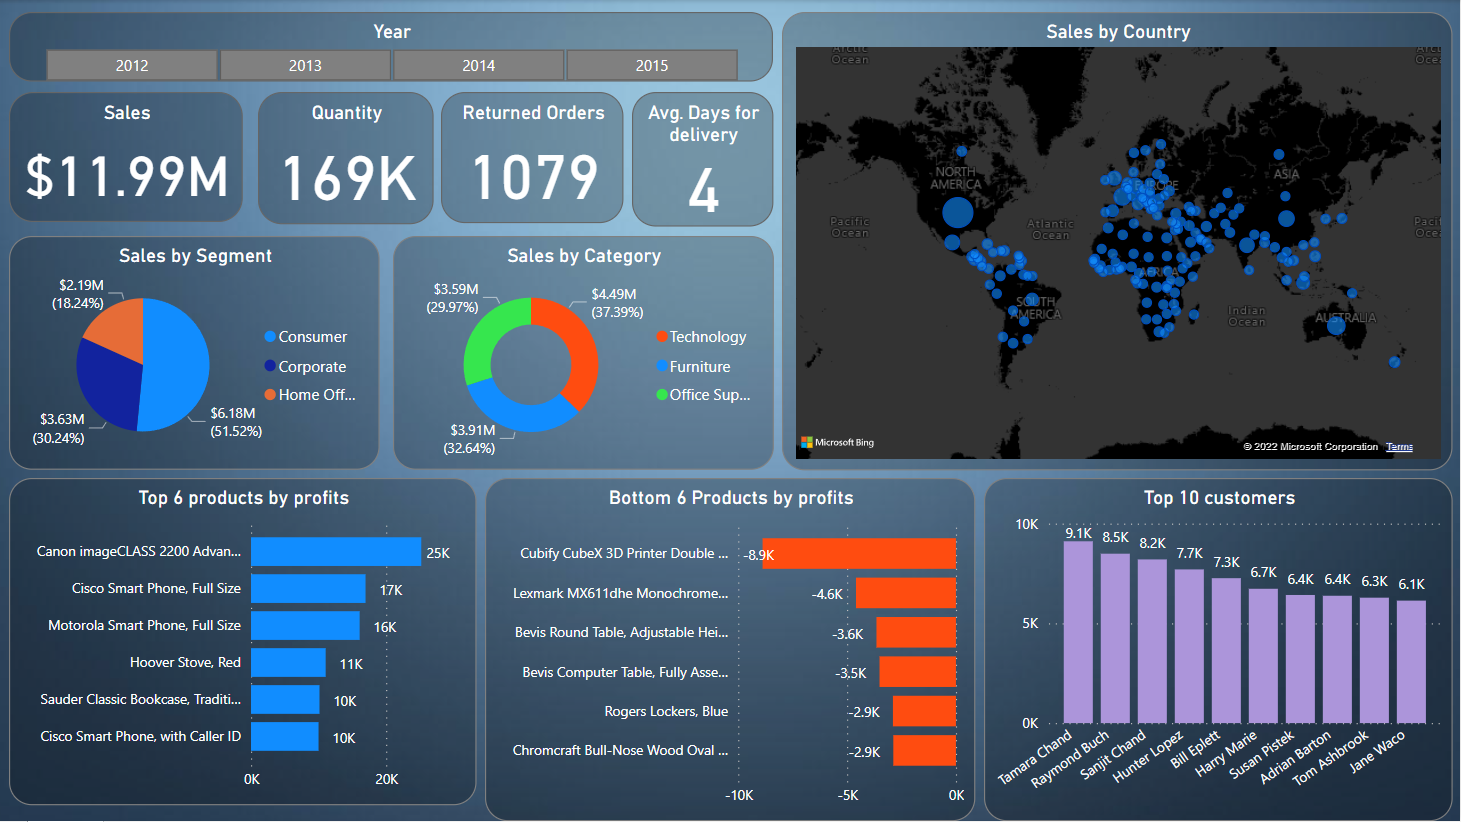

Layout of this report page (visuals, bound fields, positions):
{"tool":"powerbi","page":{"name":"Page 1","canvas":[1280,720],"ordinal":0},"visuals":[{"type":"card","title":"Sales","fields":{"Values":["Orders.Sales"]},"box":[7.9,80.7,205.2,114],"z":0},{"type":"card","title":"Quantity","fields":{"Values":["Orders.Quantity"]},"box":[226.3,80.7,154.3,115.8],"z":1000},{"type":"card","title":"Avg. Days for delivery","fields":{"Values":["Orders.delivery days"]},"box":[554.3,80.7,123.7,117.5],"z":2000},{"type":"slicer","title":"Year","fields":{"Values":["Orders.year"]},"box":[7.9,10.5,670,60.5],"z":3000},{"type":"card","title":"Returned Orders","fields":{"Values":["Returns.return orders"]},"box":[386.7,80.7,160.5,114.9],"z":4000},{"type":"map","fields":{"Category":["Orders.Country"],"Size":["Orders.Sales"]},"box":[685.8,10.5,588.5,401.7],"z":5000},{"type":"barChart","title":"Top 6 products by profits ","fields":{"Y":["Orders.Profit"],"Category":["Orders.Product Name"]},"box":[7.9,419.2,409.5,286.8],"z":6000},{"type":"barChart","title":"Bottom 6 Products by profits","fields":{"Y":["Orders.Profit"],"Category":["Orders.Product Name"]},"box":[425,419.2,429.9,300.5],"z":6001},{"type":"pieChart","fields":{"Category":["Orders.Segment"],"Y":["Orders.Sales"]},"box":[7.9,207,325.4,205.2],"z":6002},{"type":"donutChart","fields":{"Y":["Orders.Sales"],"Category":["Orders.Category"]},"box":[344.3,207.2,333.6,205.2],"z":6003},{"type":"columnChart","title":"Top 10 customers","fields":{"Category":["Orders.Customer Name"],"Y":["Orders.Profit"]},"box":[862.9,419.2,411.3,300.8],"z":6004}]}

Visuals, with their boxes in screenshot pixels (x1, y1, x2, y2), scaled from the page's 1280x720 canvas onto the 1461x822 screenshot:
"Sales" card: detection(9, 92, 243, 222)
"Quantity" card: detection(258, 92, 434, 224)
"Avg. Days for delivery" card: detection(633, 92, 774, 226)
"Year" slicer: detection(9, 12, 774, 81)
"Returned Orders" card: detection(441, 92, 625, 223)
map - Orders.Country x Orders.Sales: detection(783, 12, 1454, 471)
"Top 6 products by profits " barChart: detection(9, 479, 476, 806)
"Bottom 6 Products by profits" barChart: detection(485, 479, 976, 821)
pieChart - Orders.Segment x Orders.Sales: detection(9, 236, 380, 471)
donutChart - Orders.Sales x Orders.Category: detection(393, 237, 774, 471)
"Top 10 customers" columnChart: detection(985, 479, 1454, 821)
